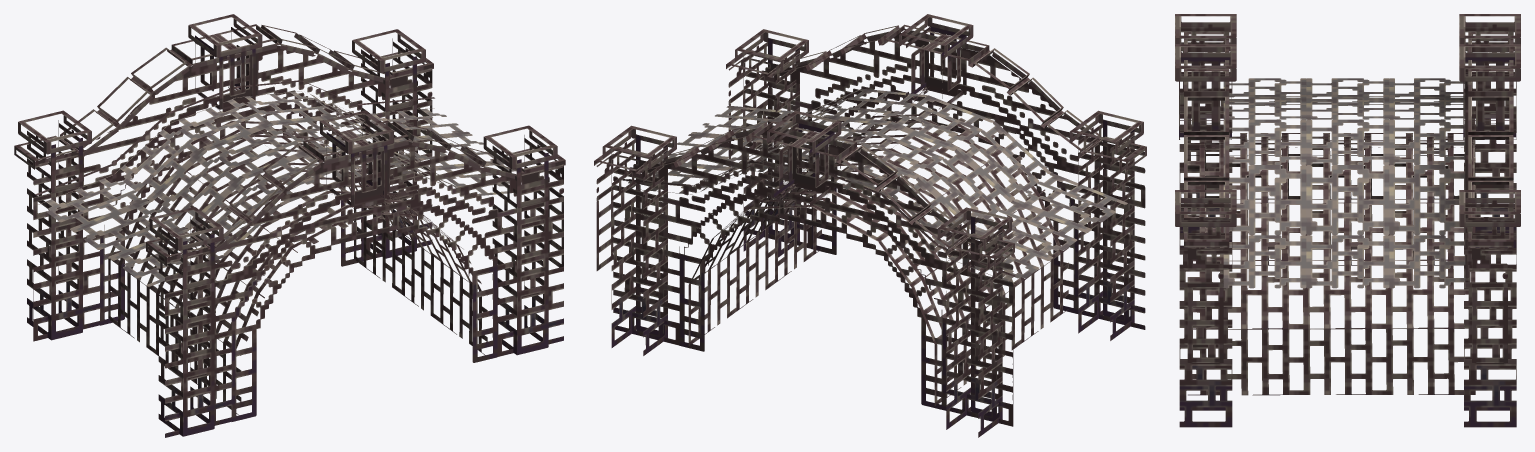
Rendered from ObjMD_Bridge_C.FBX.
The picture shows the model from 3 angles, left to right: view 1: azimuth 30°, elevation 25°; view 2: azimuth 150°, elevation 25°; view 3: azimuth 270°, elevation 25°; orthographic projection. The views are drawn at different scales.
Visible parts, largest first — view 1: ObjMD_Bridge_C; view 2: ObjMD_Bridge_C; view 3: ObjMD_Bridge_C.
Part boxes in pixels (<box>): ObjMD_Bridge_C: <box>14,14,565,437</box>; ObjMD_Bridge_C: <box>594,14,1146,437</box>; ObjMD_Bridge_C: <box>1175,14,1520,427</box>.
Size of the model in its own units: 420 by 259 by 292.
